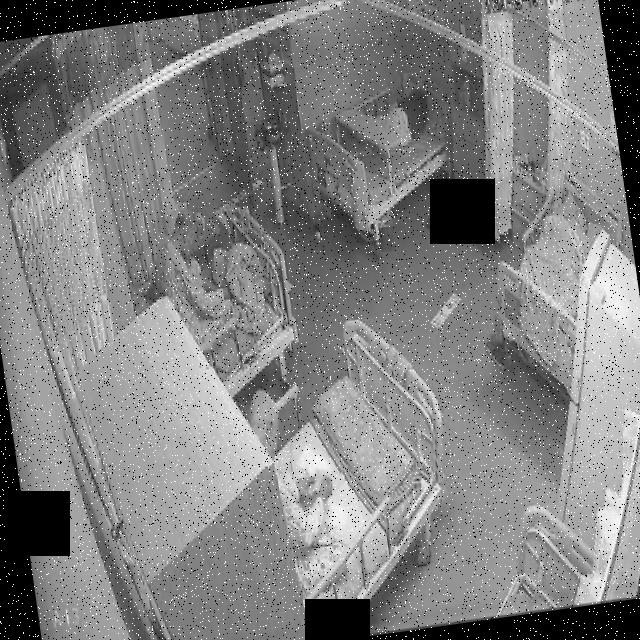bed: (255, 309, 471, 640), (476, 163, 640, 404), (154, 200, 304, 407), (299, 65, 460, 238)
lie: (340, 86, 434, 158)
patient: (244, 382, 346, 600), (153, 200, 280, 352), (341, 86, 434, 159)
sit: (242, 380, 346, 604), (153, 202, 279, 349)
